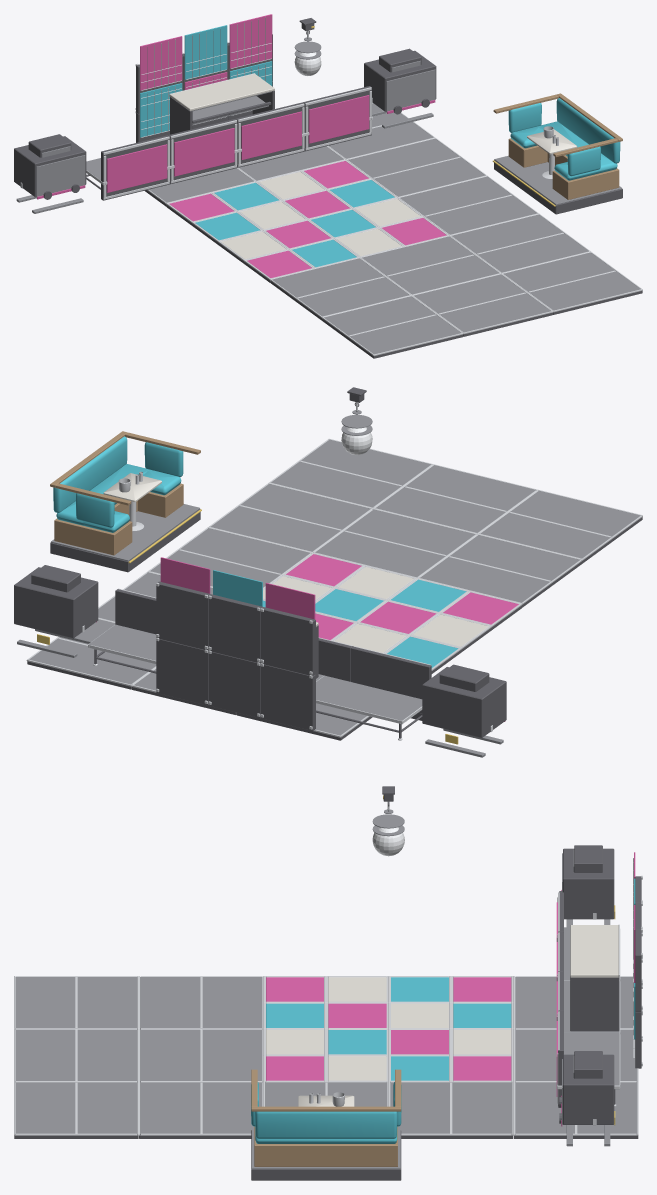
The model's file is club-main-room-light.glb.
The picture shows the model from 3 angles, top to bottom: view 1: azimuth 30°, elevation 25°; view 2: azimuth 150°, elevation 25°; view 3: azimuth 270°, elevation 25°; orthographic projection. The views are drawn at different scales.
Parts seen in each view (by area): view 1: 014-dance-floor-tile-module1, 011-dance-floor-tile-module1, 015-dance-floor-tile-module1, 017-dance-floor-tile-module1, 019-dance-floor-tile-module1, 020-dance-floor-tile-module1, 018-dance-floor-tile-module1, 012-dance-floor-tile-module1, 124-raised-seating-booth-cyan4, 124-raised-seating-booth-cyan3, 048-dj-booth-facade-panel1, 045-dj-booth-facade-panel1 (+54 smaller); view 2: 014-dance-floor-tile-module1, 011-dance-floor-tile-module1, 015-dance-floor-tile-module1, 019-dance-floor-tile-module1, 012-dance-floor-tile-module1, 124-raised-seating-booth-cyan4, 020-dance-floor-tile-module1, 124-raised-seating-booth-cyan3, 018-dance-floor-tile-module1, 075-speaker-stack-sub-cabinet0, 073-speaker-stack-sub-cabinet0, 066-backdrop-led-panel-module0 (+43 smaller); view 3: 012-dance-floor-tile-module1, 015-dance-floor-tile-module1, 020-dance-floor-tile-module1, 011-dance-floor-tile-module1, 014-dance-floor-tile-module1, 019-dance-floor-tile-module1, 017-dance-floor-tile-module1, 124-raised-seating-booth-cyan4, 124-raised-seating-booth-cyan3, 016-dance-floor-tile-module1, 075-speaker-stack-sub-cabinet0, 013-dance-floor-tile-module1 (+37 smaller).
Part boxes in pixels (x1,y1,x2,y2): 014-dance-floor-tile-module1: (362,236,498,294); 011-dance-floor-tile-module1: (272,258,409,316); 015-dance-floor-tile-module1: (414,274,550,332); 017-dance-floor-tile-module1: (348,138,485,196); 019-dance-floor-tile-module1: (452,214,588,272); 020-dance-floor-tile-module1: (503,252,640,310); 018-dance-floor-tile-module1: (400,176,536,234); 012-dance-floor-tile-module1: (324,296,460,354); 124-raised-seating-booth-cyan4: (508,98,620,180); 124-raised-seating-booth-cyan3: (493,93,622,199); 048-dj-booth-facade-panel1: (308,95,369,143); 045-dj-booth-facade-panel1: (106,144,167,192); 014-dance-floor-tile-module1: (315,509,475,577); 011-dance-floor-tile-module1: (420,535,579,602); 015-dance-floor-tile-module1: (376,465,535,532); 019-dance-floor-tile-module1: (211,484,370,551); 012-dance-floor-tile-module1: (480,491,640,558); 124-raised-seating-booth-cyan4: (53,436,183,532); 020-dance-floor-tile-module1: (271,439,430,507); 124-raised-seating-booth-cyan3: (50,431,200,555); 018-dance-floor-tile-module1: (150,528,309,587); 075-speaker-stack-sub-cabinet0: (14,567,98,638); 073-speaker-stack-sub-cabinet0: (422,667,506,737); 066-backdrop-led-panel-module0: (261,607,315,675); 012-dance-floor-tile-module1: (15,977,137,1028); 015-dance-floor-tile-module1: (15,1029,137,1081); 020-dance-floor-tile-module1: (15,1082,137,1134); 011-dance-floor-tile-module1: (140,977,262,1029); 014-dance-floor-tile-module1: (140,1029,262,1081); 019-dance-floor-tile-module1: (140,1082,262,1134); 017-dance-floor-tile-module1: (390,1082,511,1134); 124-raised-seating-booth-cyan4: (251,1082,401,1143); 124-raised-seating-booth-cyan3: (251,1069,401,1166); 016-dance-floor-tile-module1: (515,1082,636,1134); 075-speaker-stack-sub-cabinet0: (559,1054,614,1124); 013-dance-floor-tile-module1: (515,1029,636,1081).
Bounding box in the file's own units: 10.24 × 4.31 × 10.07.
